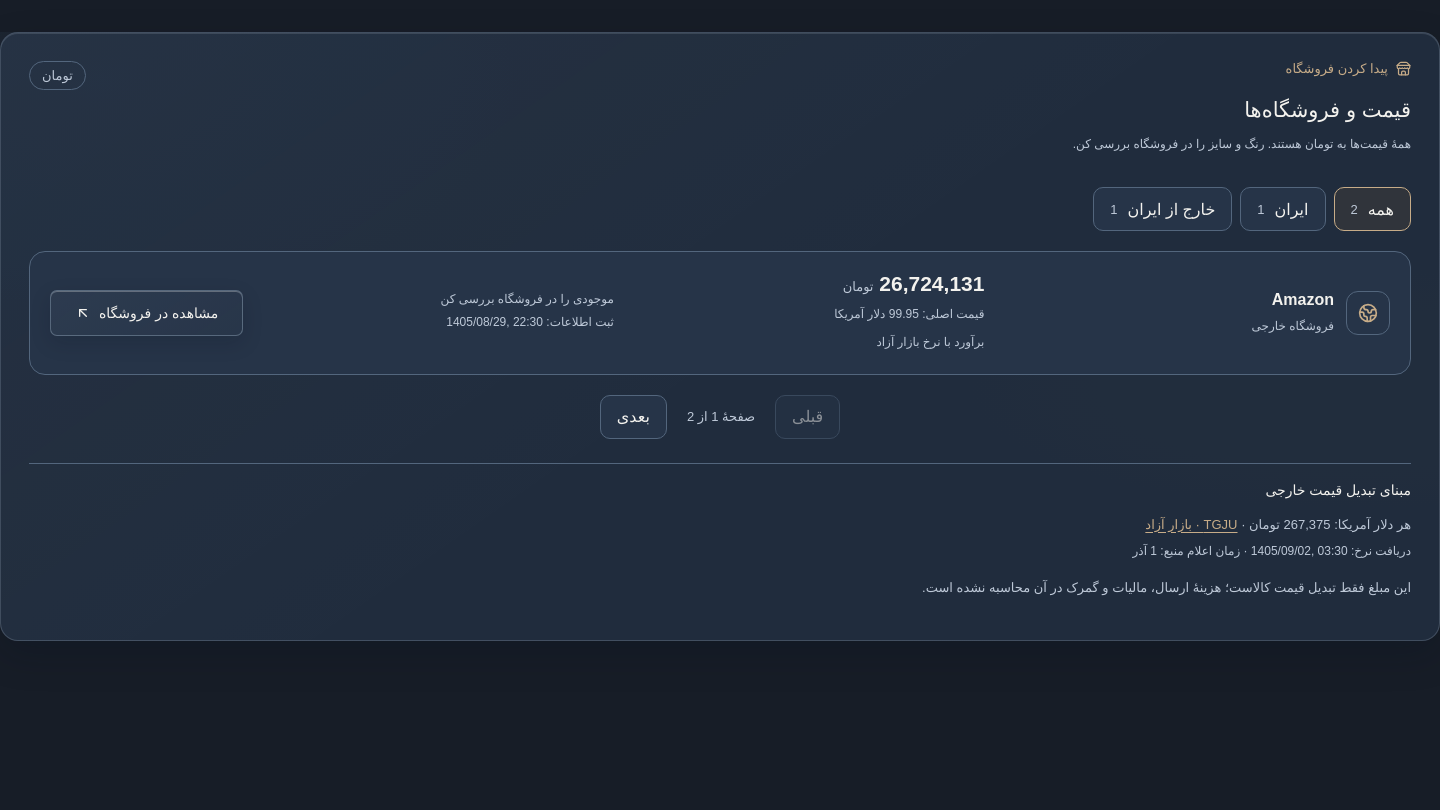
Test case: store prices in toman › filters markets and resets pagination without mixing results
The width and height of the screenshot is (1440, 810).
Expected: the heading "Amazon" is shown, x1=1272 y1=291 x2=1334 y2=308
What coordinates should you click on to do the following:
click the button "بعدی"
I would click on:
 (633, 417)
Its box is x1=600 y1=395 x2=667 y2=439.
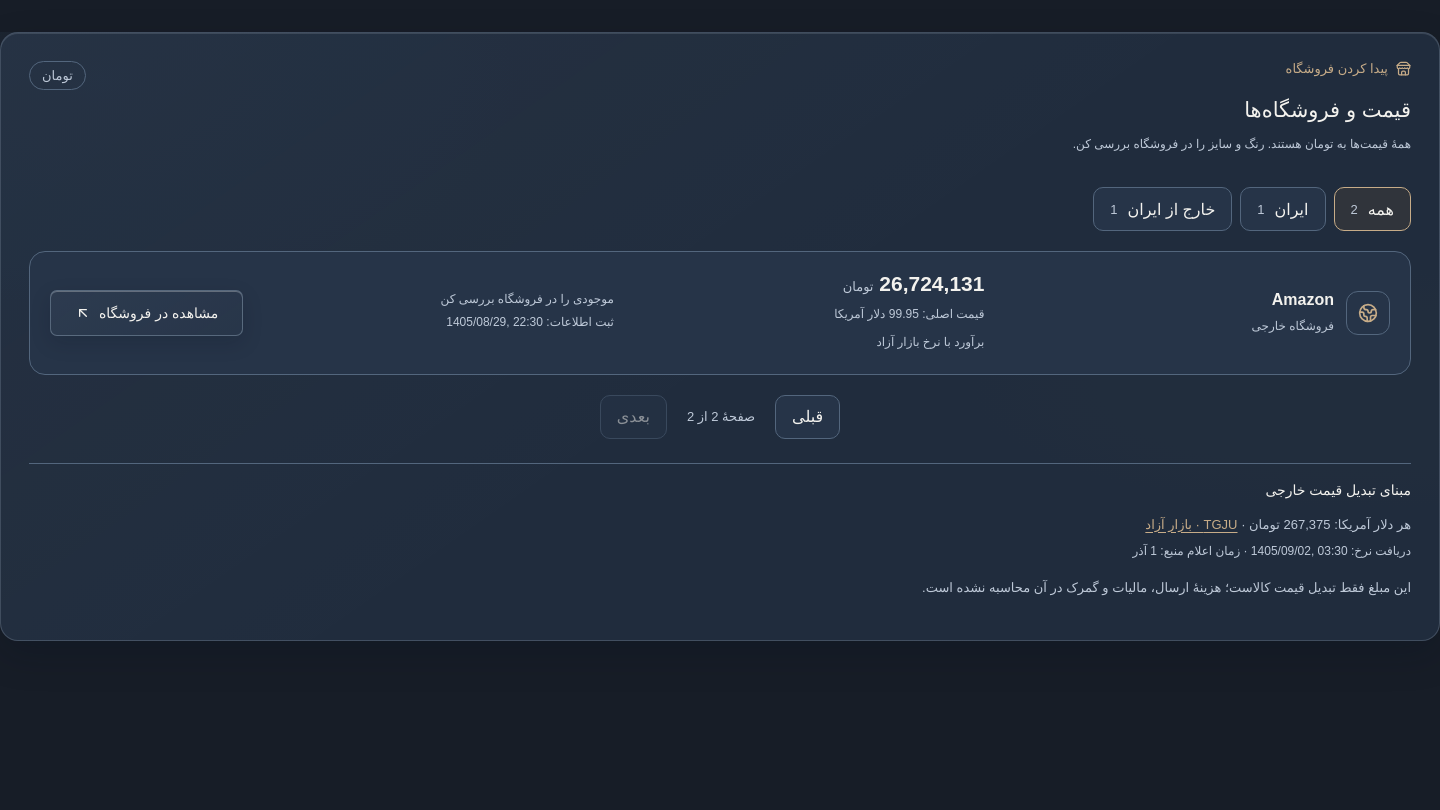
What coordinates should you click on to do the following:
click the button "ایران 1"
I would click on:
 (1283, 209)
Its box is x1=1240 y1=187 x2=1326 y2=231.
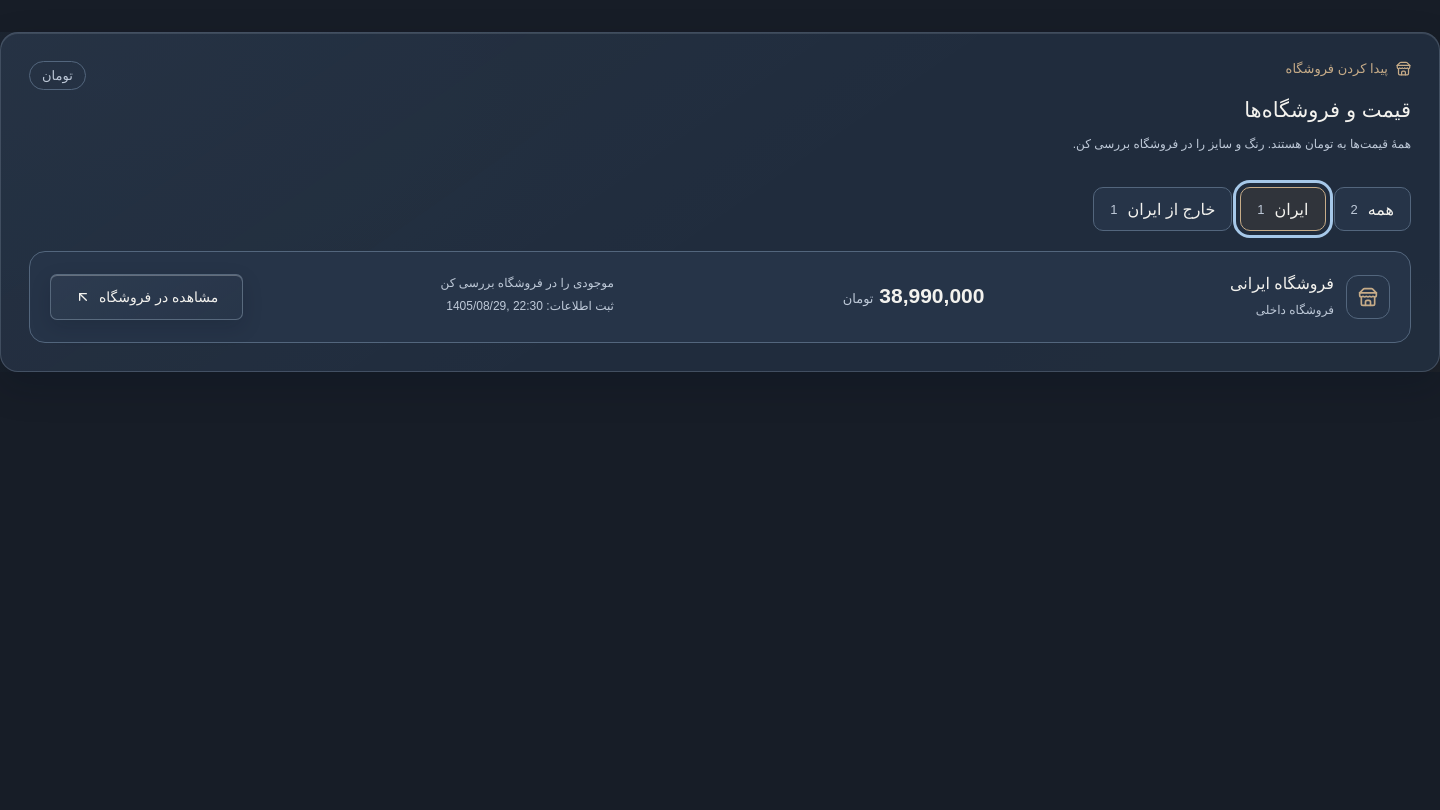
Result: the heading "فروشگاه ایرانی" is shown at x1=1230 y1=272 x2=1334 y2=296
Result: the heading "Amazon" is gone
